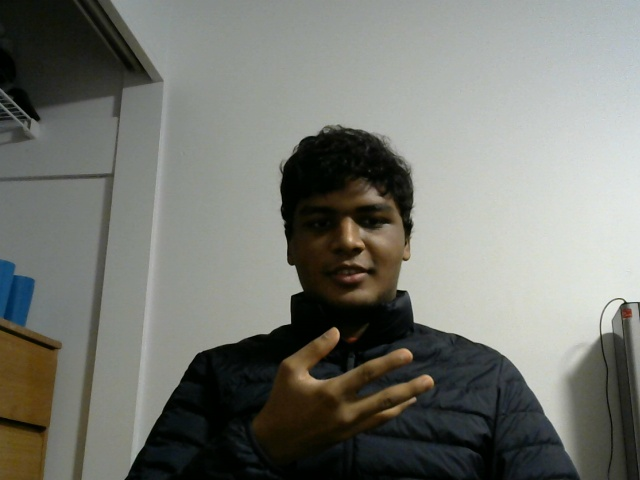Speech: (265, 325, 440, 447)
